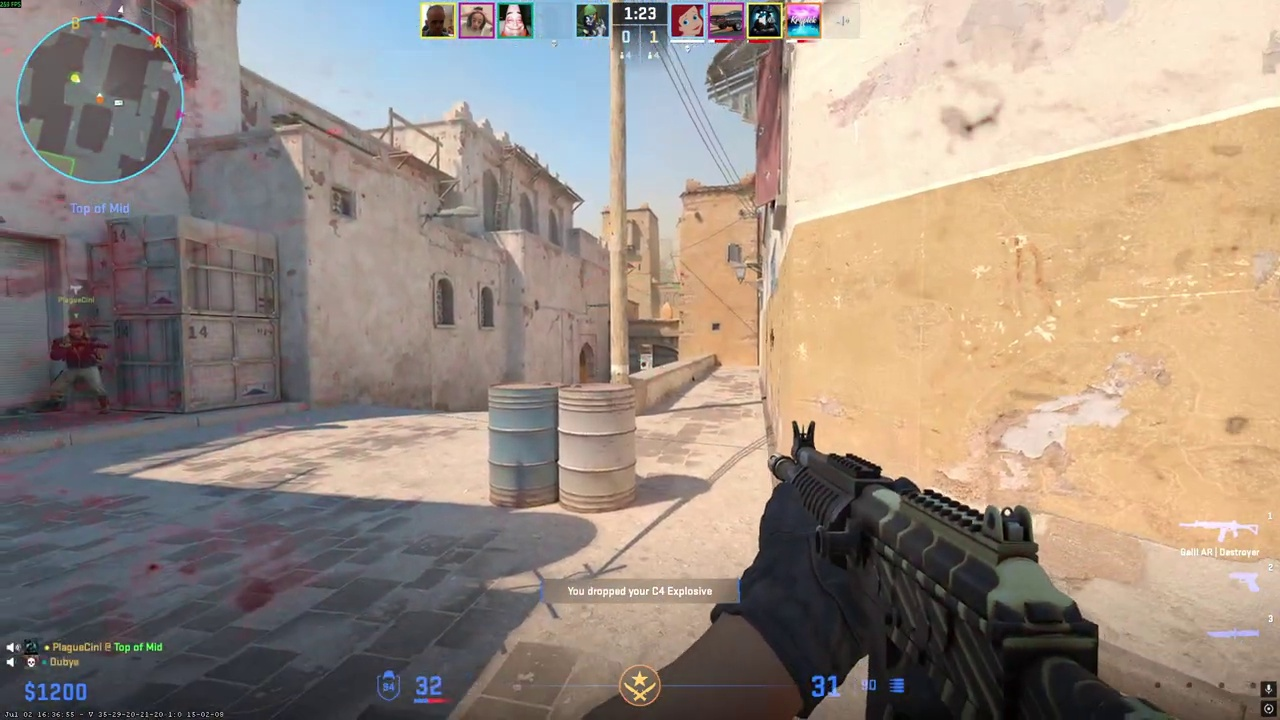Terrorist: (42, 323, 110, 416)
